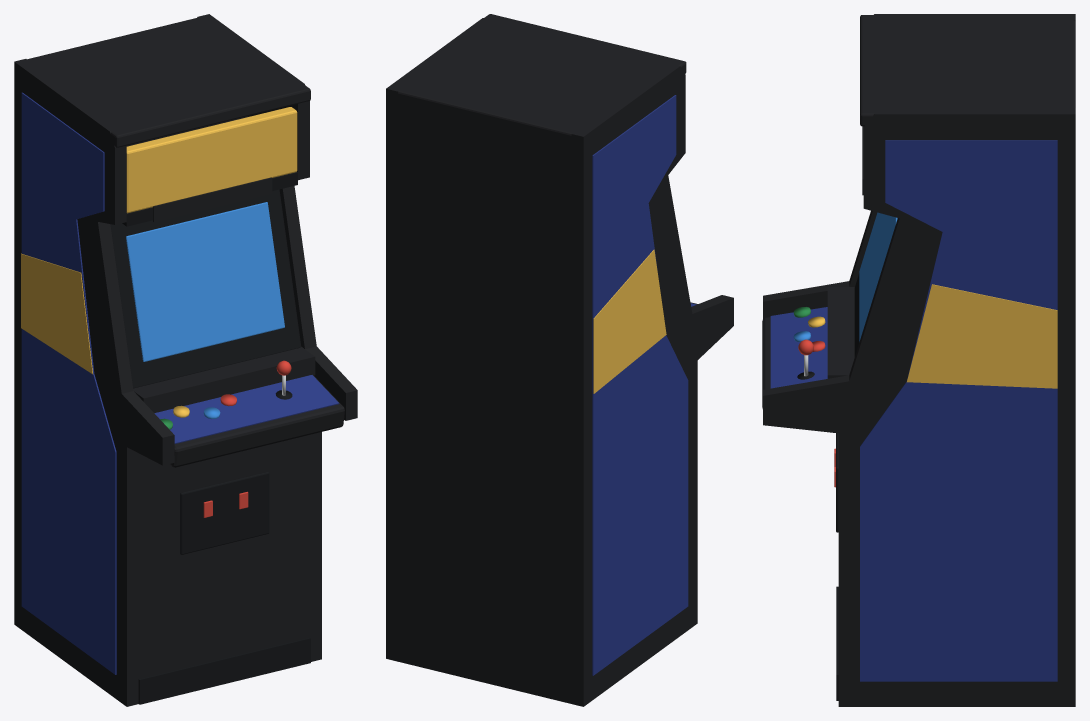
File: arcadeCabinet.glb
The picture shows the model from 3 angles, left to right: view 1: azimuth 30°, elevation 25°; view 2: azimuth 150°, elevation 25°; view 3: azimuth 270°, elevation 25°; orthographic projection. The views are drawn at different scales.
Parts seen in each view (by area): view 1: body; view 2: body; view 3: body.
Part boxes in pixels (box(x1,y1,x2,y2)): body: box(14, 14, 357, 706); body: box(386, 14, 733, 706); body: box(762, 14, 1075, 706).
Bounding box in the file's own units: 0.672 × 1.82 × 0.8721.
